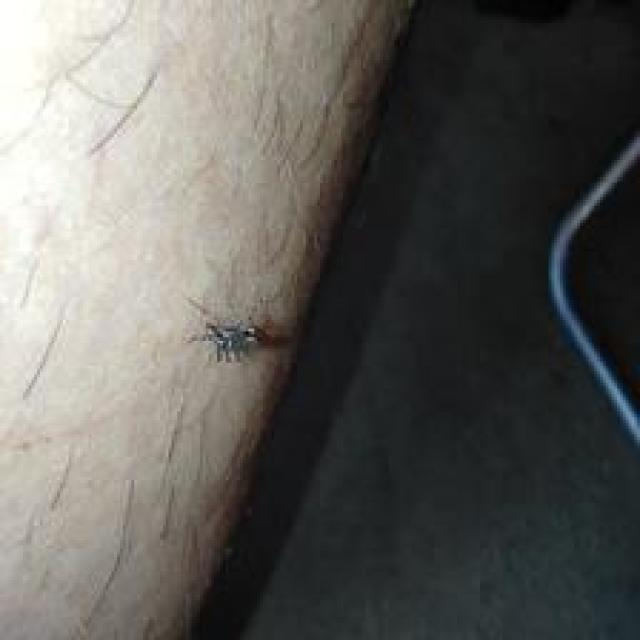Aedes albopictus: (197, 319, 266, 364)
